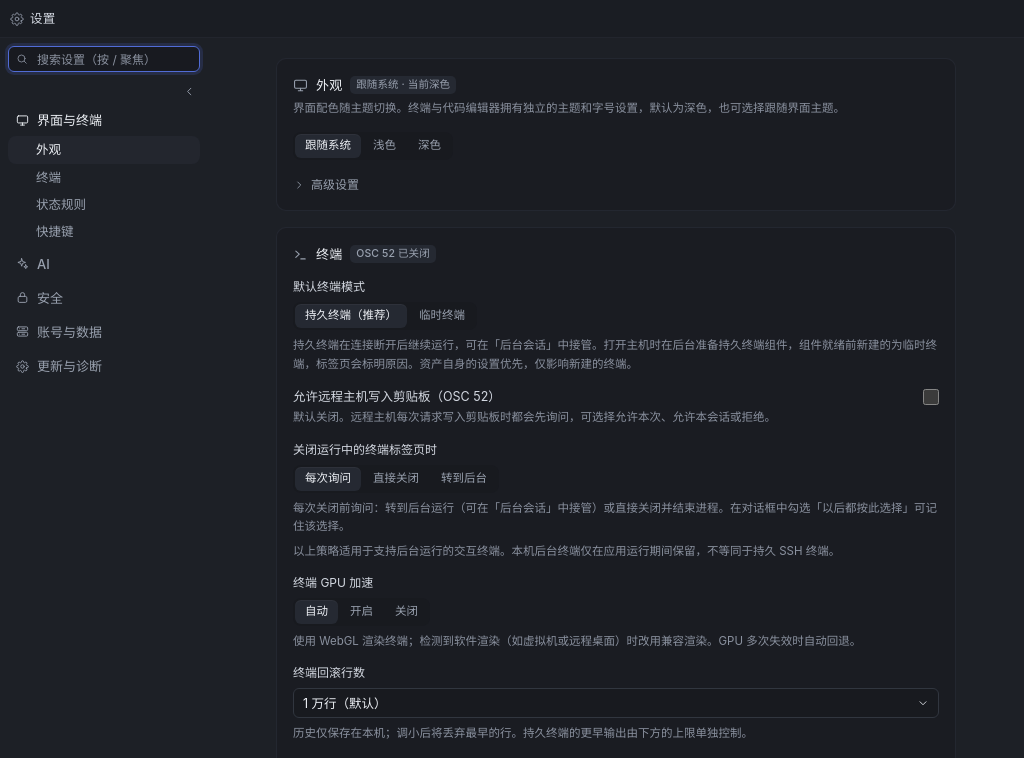
Test: SettingsView responsive structure › allows the UI font scale segment to wrap while other segments stay on one line
What coordinates should you click on to do the following:
click the button "高级设置"
I would click on:
 (326, 185)
Its box is [293,176,359,194].
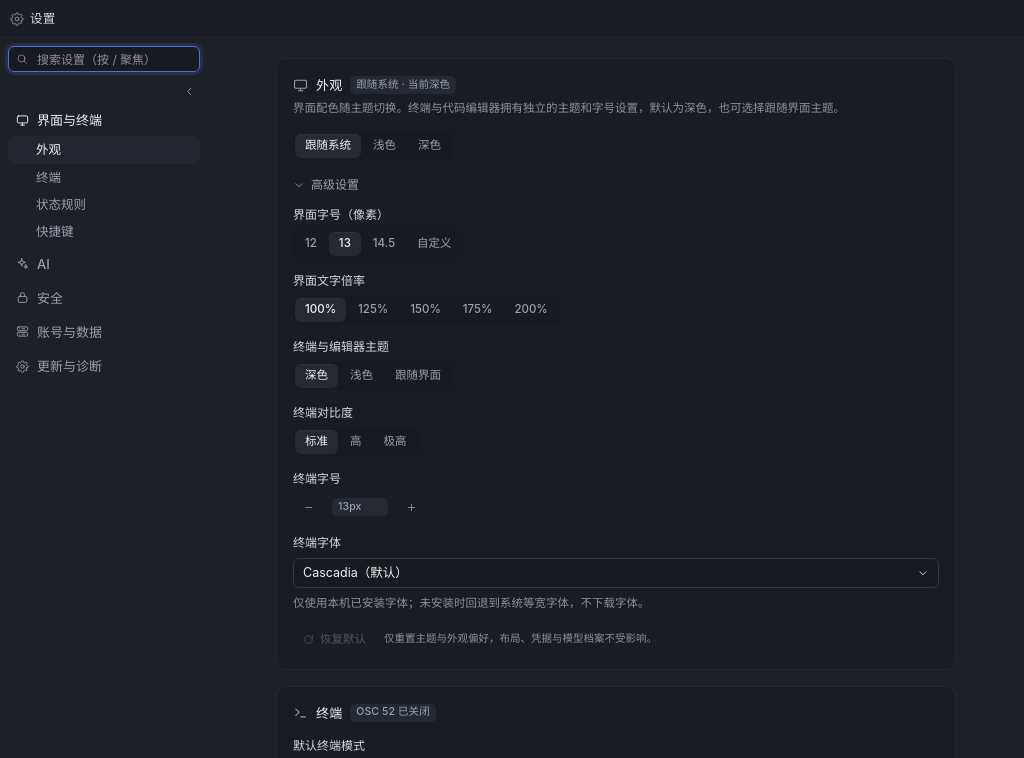
Now the element with class "nx-segment" showing "100% 125% 150% 175% 200%" is shown, box [293,296,560,324]
